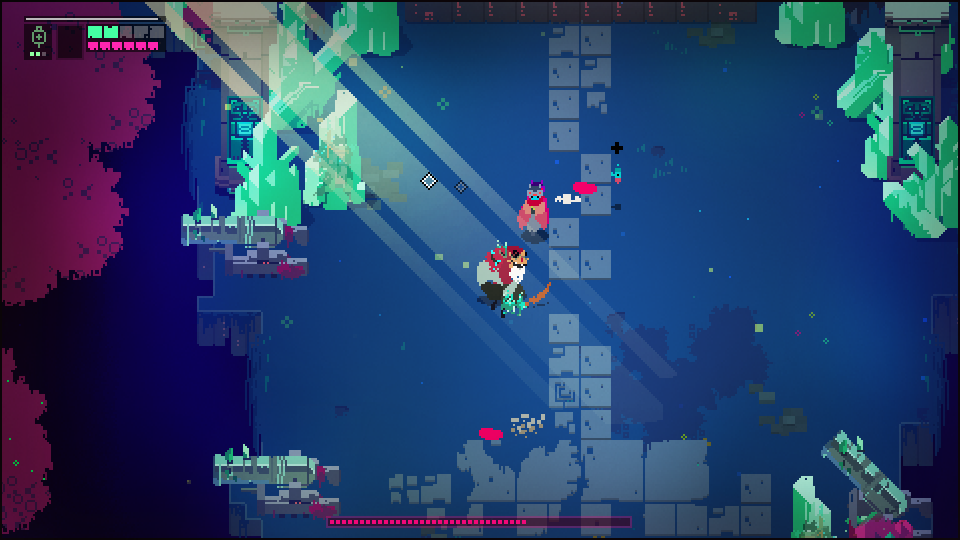hanged_man: (473, 241, 554, 323)
player: (515, 179, 550, 245)
